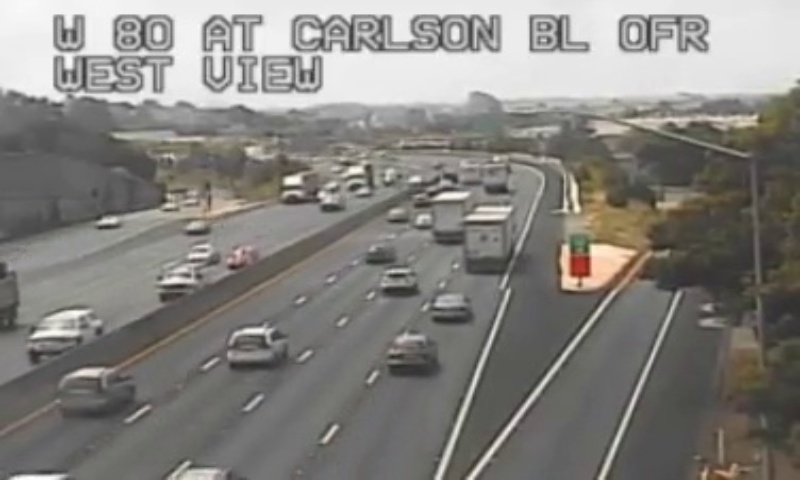car: (59, 366, 131, 413), (227, 327, 285, 363), (386, 335, 435, 369), (429, 294, 470, 321), (381, 267, 417, 294)
truck: (461, 203, 512, 270), (431, 191, 472, 243)
